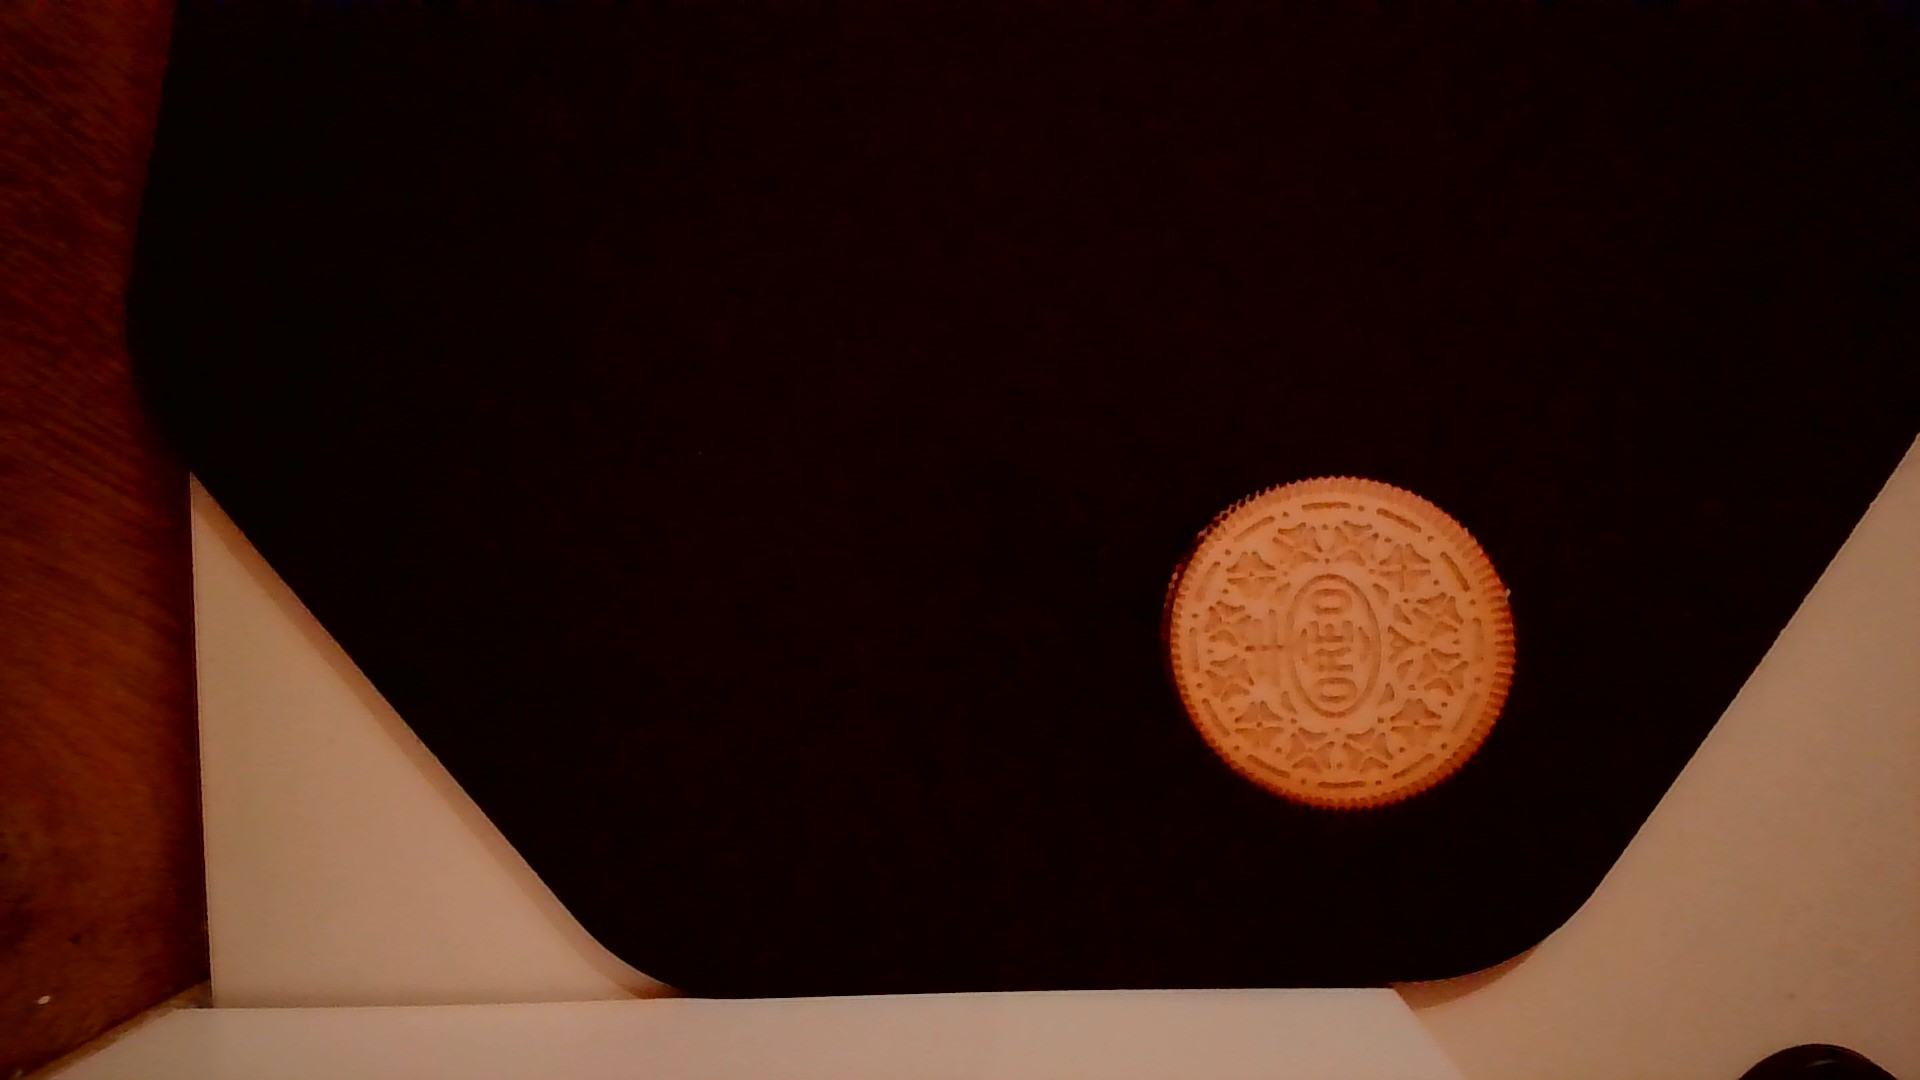Oréo: (1150, 468, 1534, 839)
